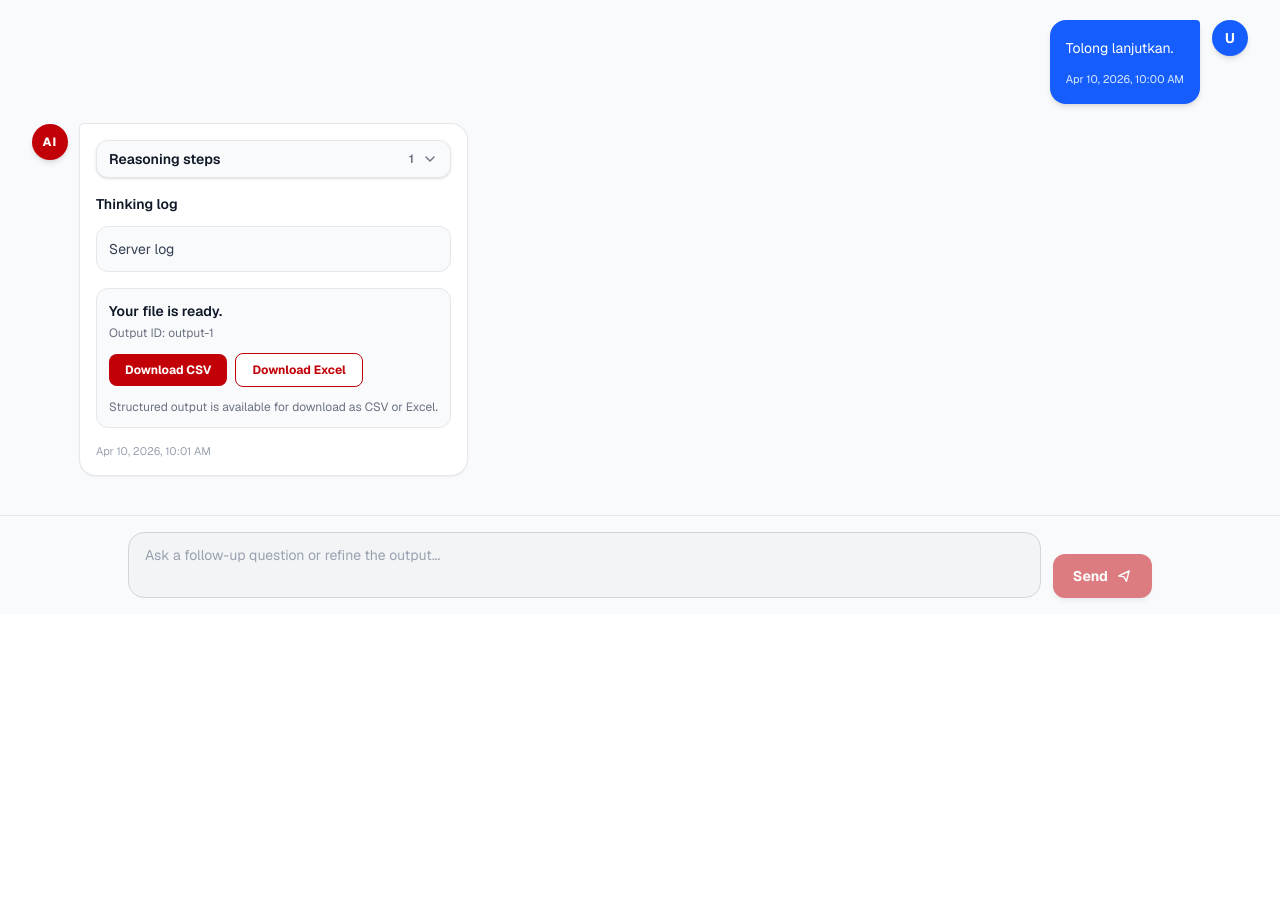
Test: SessionConversationView › shows explicit error message when follow-up generation throws Error
Step 1. Type "error case" into the text box named "Follow-up message" → (584, 565), box left=128, top=532, right=1041, bottom=598
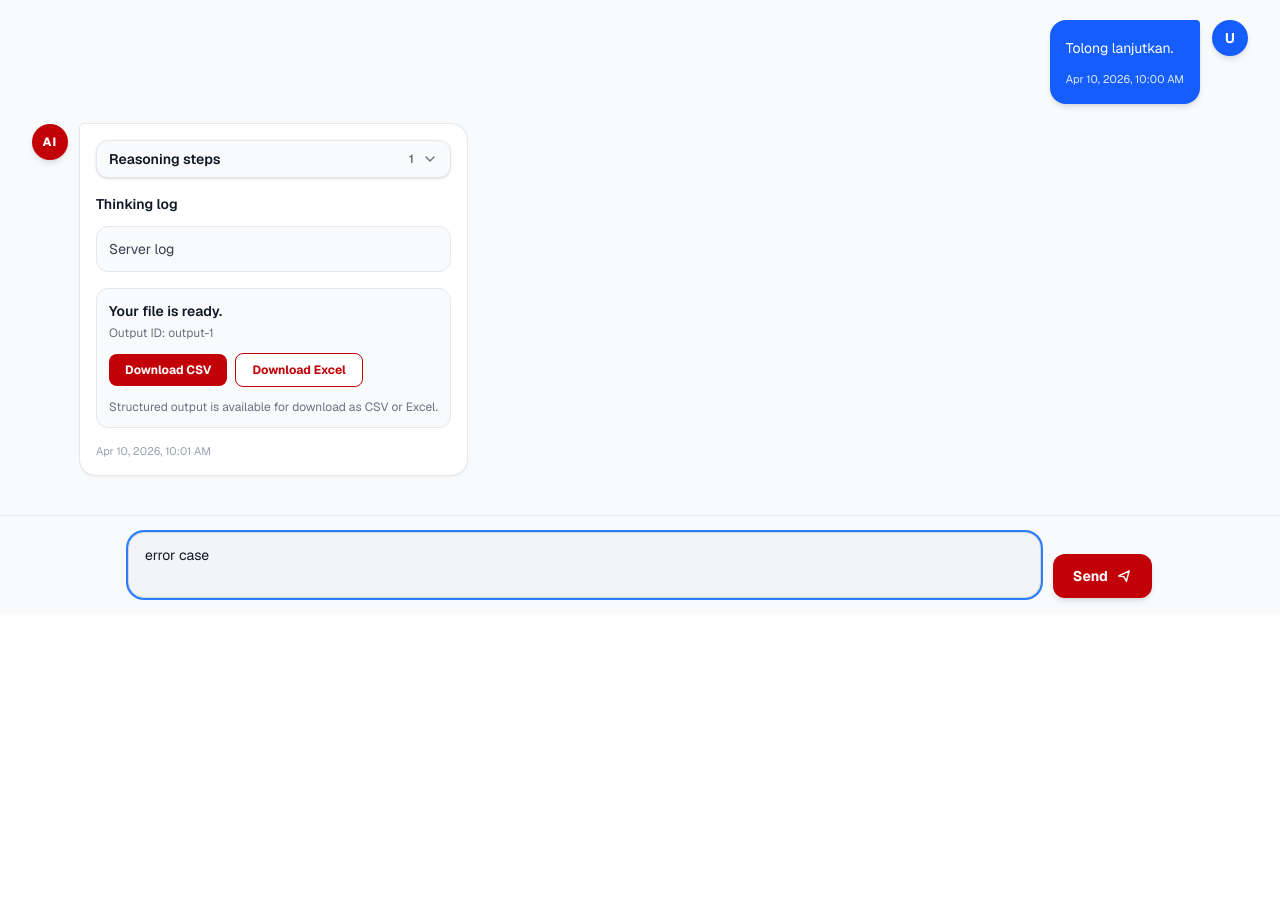
Step 2. Click the button "Send" → (1102, 576), box left=1053, top=554, right=1152, bottom=598
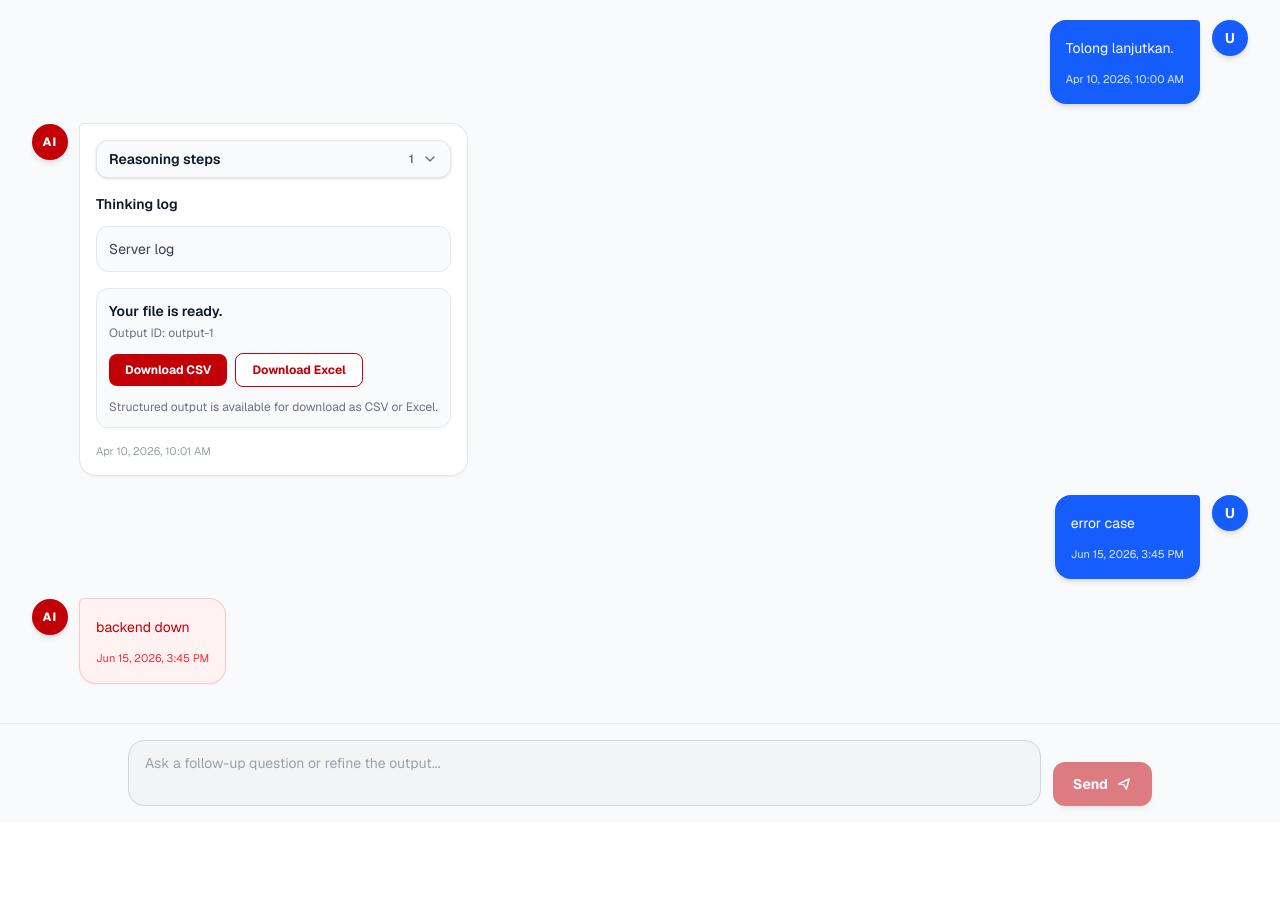
Result: the text "backend down" is shown at left=96, top=618, right=190, bottom=636
Result: the text "AI" next to "backend down" is shown at left=43, top=609, right=57, bottom=625
